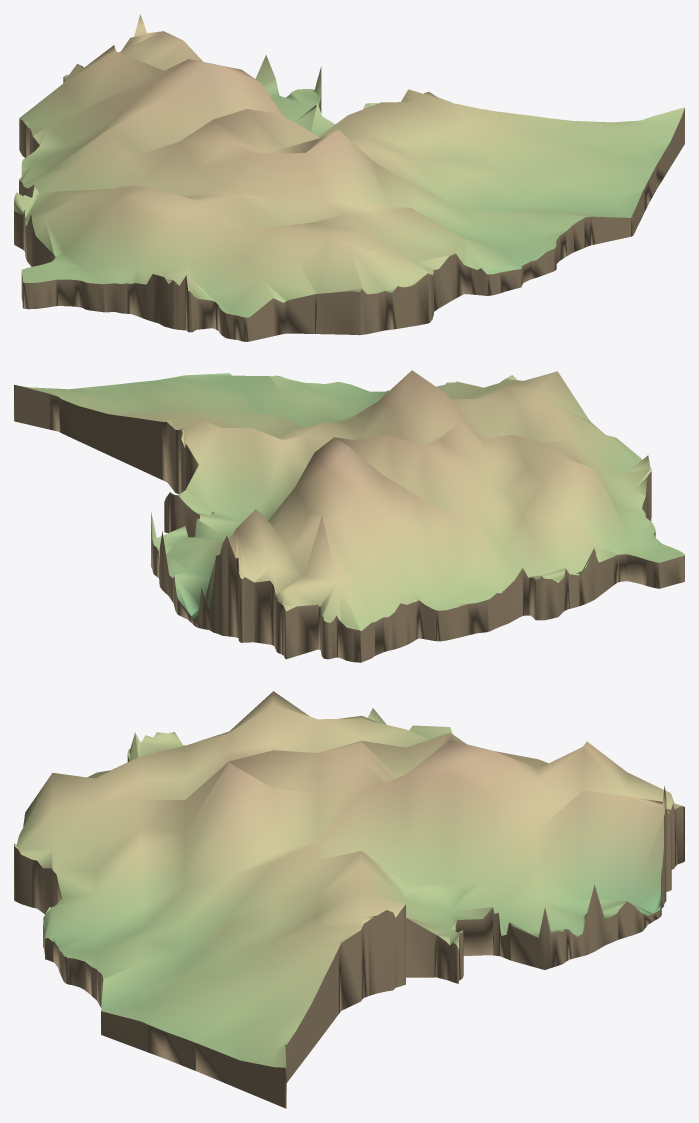
The model's file is ETH.glb.
3 renders of one model, top to bottom at view 1: azimuth 30°, elevation 25°; view 2: azimuth 150°, elevation 25°; view 3: azimuth 270°, elevation 25°, orthographic. The views are drawn at different scales.
Visible parts, largest first — view 1: ETH; view 2: ETH; view 3: ETH.
Part boxes in pixels (x1,y1,x2,y2): ETH: [14, 14, 684, 341]; ETH: [14, 370, 684, 662]; ETH: [14, 691, 684, 1108].
Size of the model in its own units: 1.86 by 0.338 by 1.43.
